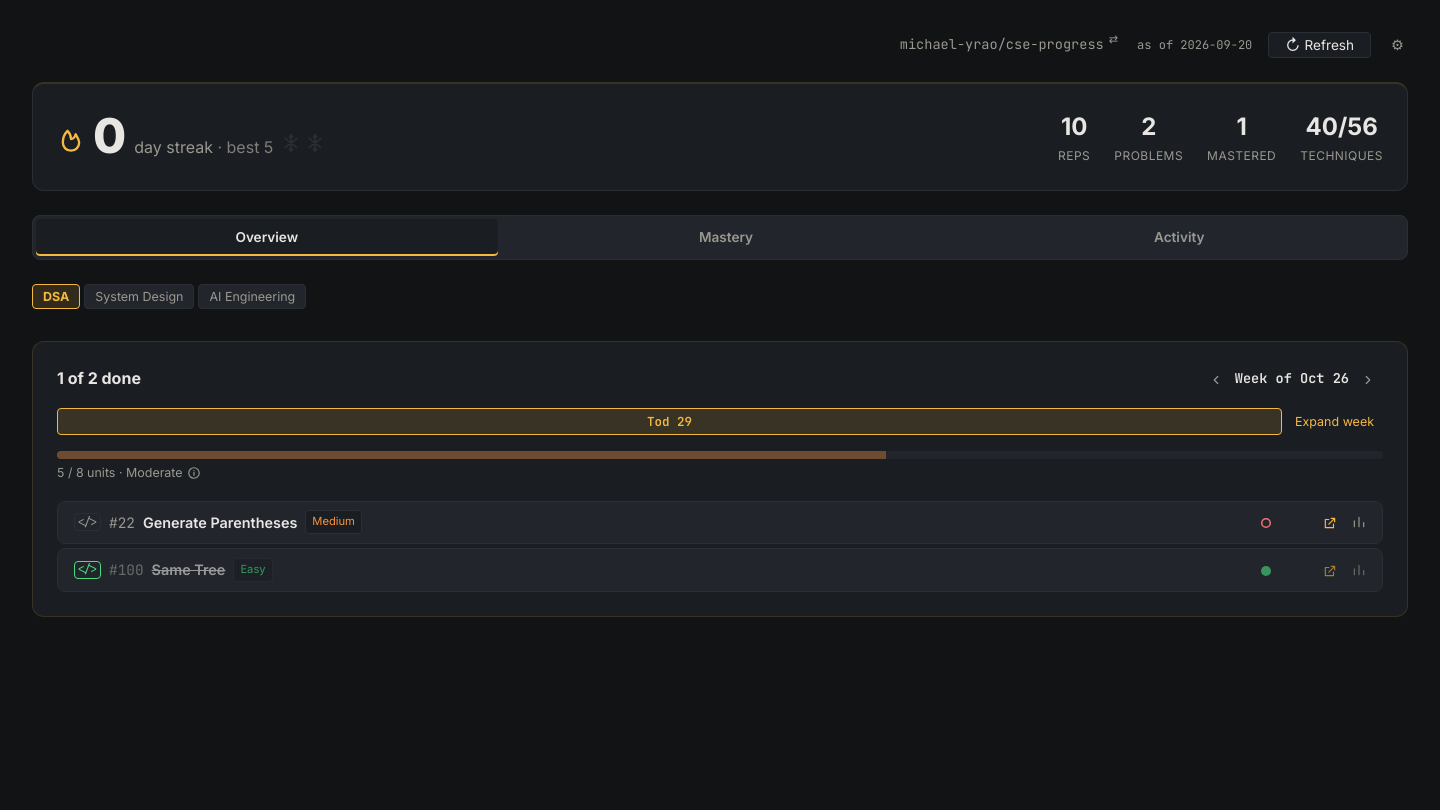
Test: ProgressPageComponent › Mastery (with the technique list folded in) and Activity tabs reveal their content on selection
Click the tab with id "tab-mastery". click: x=726, y=238
box: [500, 219, 952, 256]
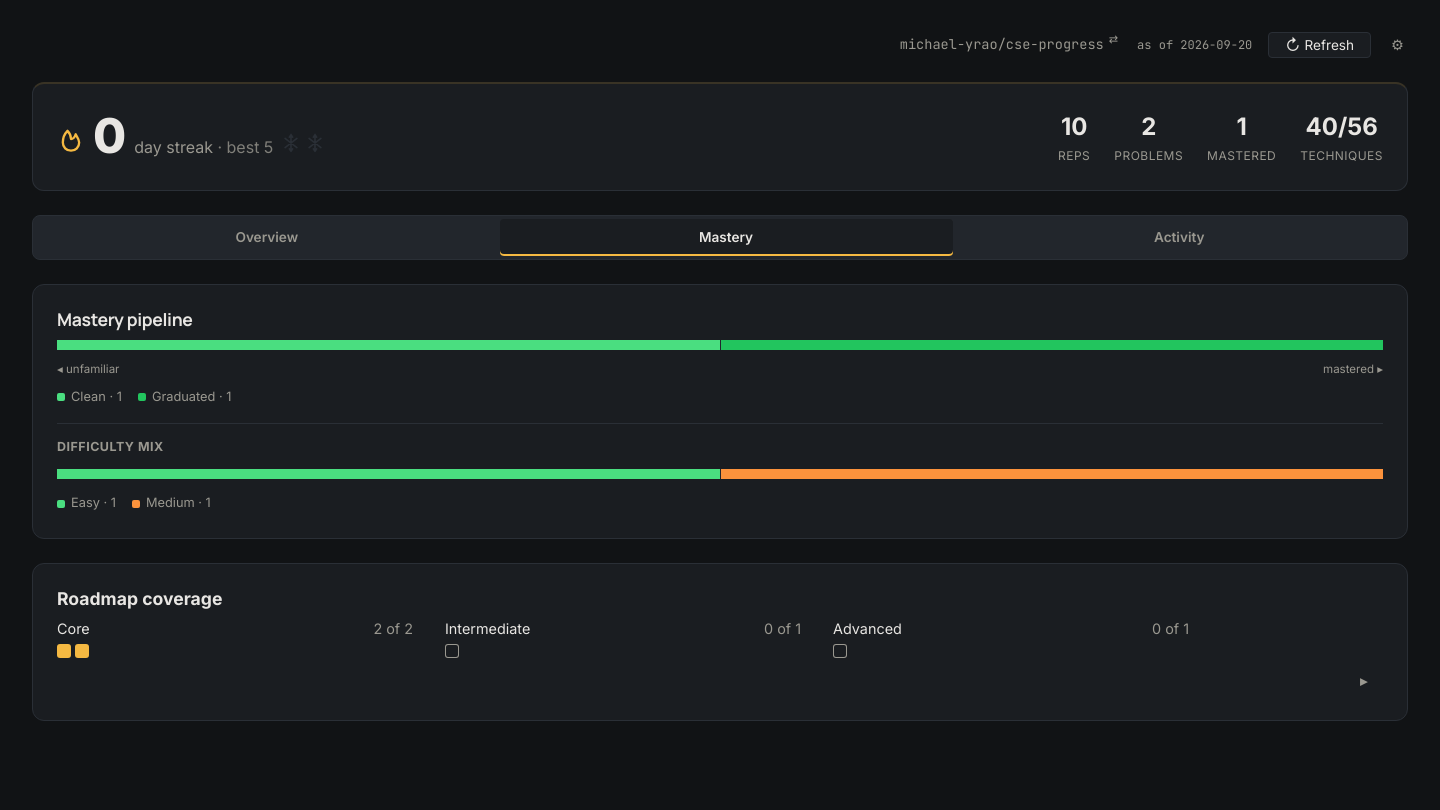
Check: the element showing "unfamiliar mastered Clean · 1 Graduated · 1" is shown, box [57, 334, 1383, 407]
Check: the element that starts with "Roadmap coverage" is shown, box [57, 588, 1383, 658]
Click the tab with id "tab-activity". click: x=1179, y=238
box: [954, 219, 1404, 256]
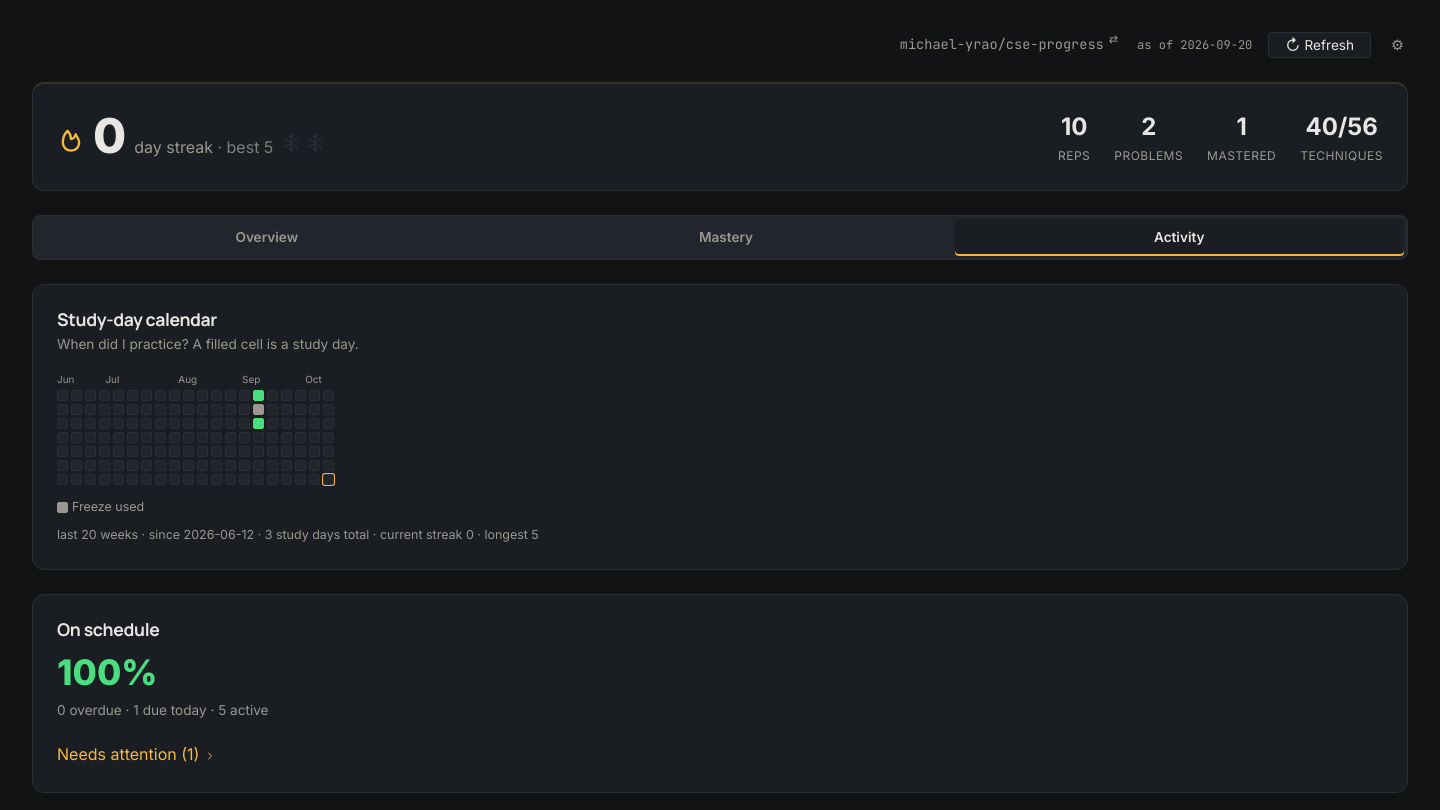
Check: the element that starts with "Jun" is shown, box [57, 373, 539, 542]
Check: the element with class "gauge" is shown, box [32, 594, 1408, 793]
